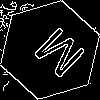M: (25, 25, 88, 87)
